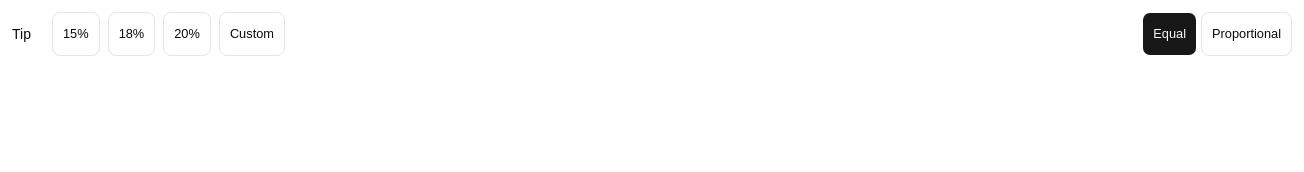
Test: TipControl › TIP-01 custom input clears error on empty (mid-edit)
Click the button "Custom" at (252, 34), box [219,12,285,56]
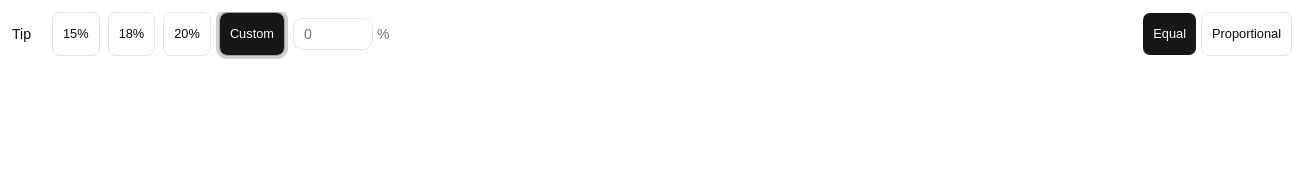
Type "abc" into the field named "Custom tip percentage" at (333, 34), box [293,18,373,50]
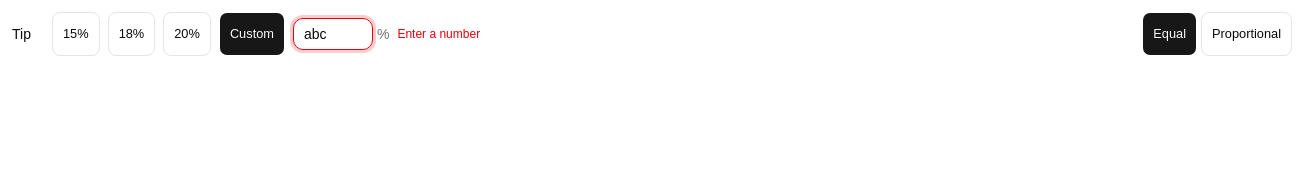
Expected: the message "Enter a number" is shown, [397,26,480,42]
Clear the field named "Custom tip percentage" at (333, 34), box [293,18,373,50]
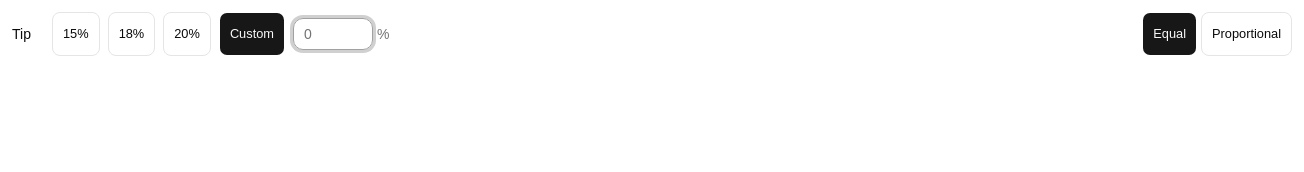
Expected: the message "Enter a number" is gone
